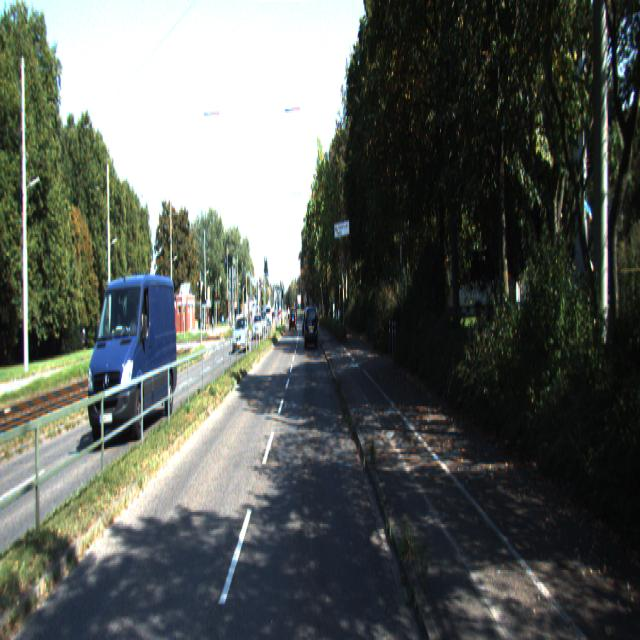Car: (232, 316, 250, 355), (305, 306, 318, 351)
DontCare: (250, 295, 299, 343)
Van: (87, 265, 179, 449)
